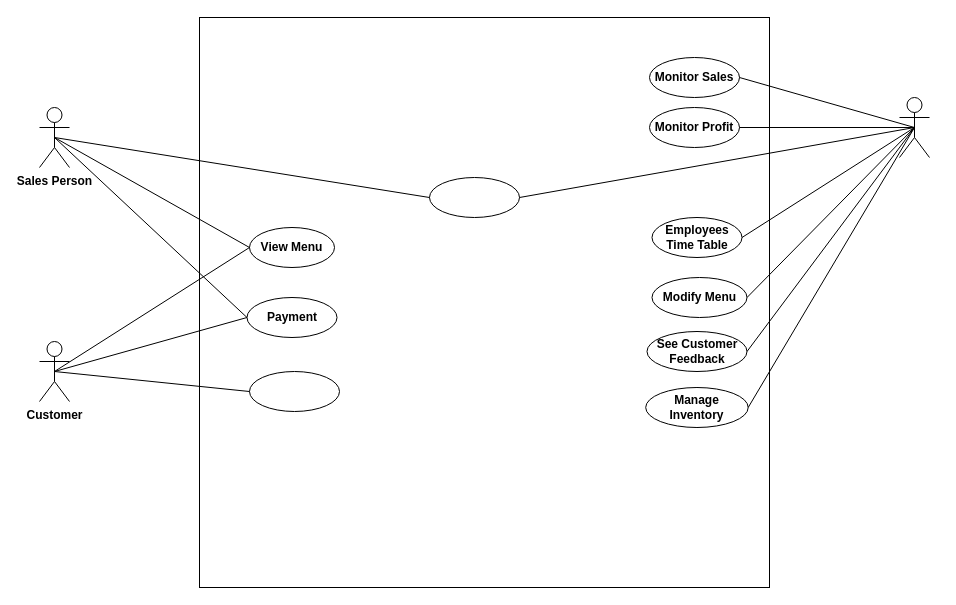
Some shapes in this 956 by 605 pixel diagram are drawn without their labels. Each missing label, with the centre of its shape:
"Manager" belongs at (x=914, y=127).
"Provide Feedback" belongs at (x=294, y=391).
"Verify Login" belongs at (x=474, y=197).
